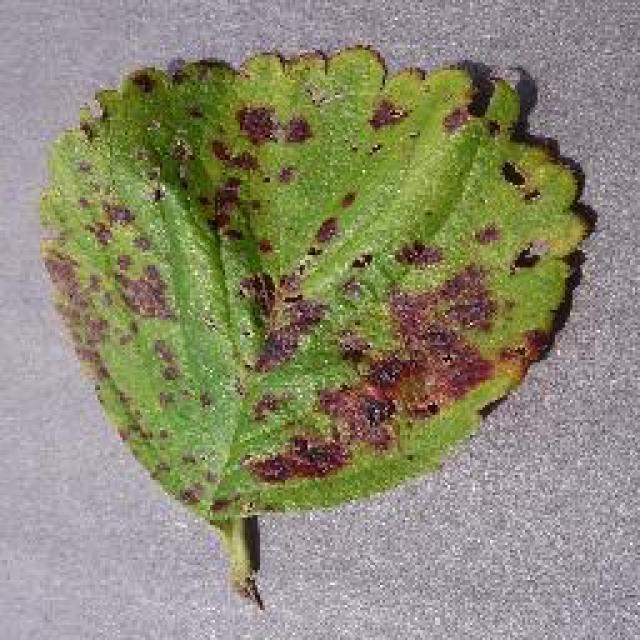Strawberry leaf scorch: (105, 188, 498, 412)
